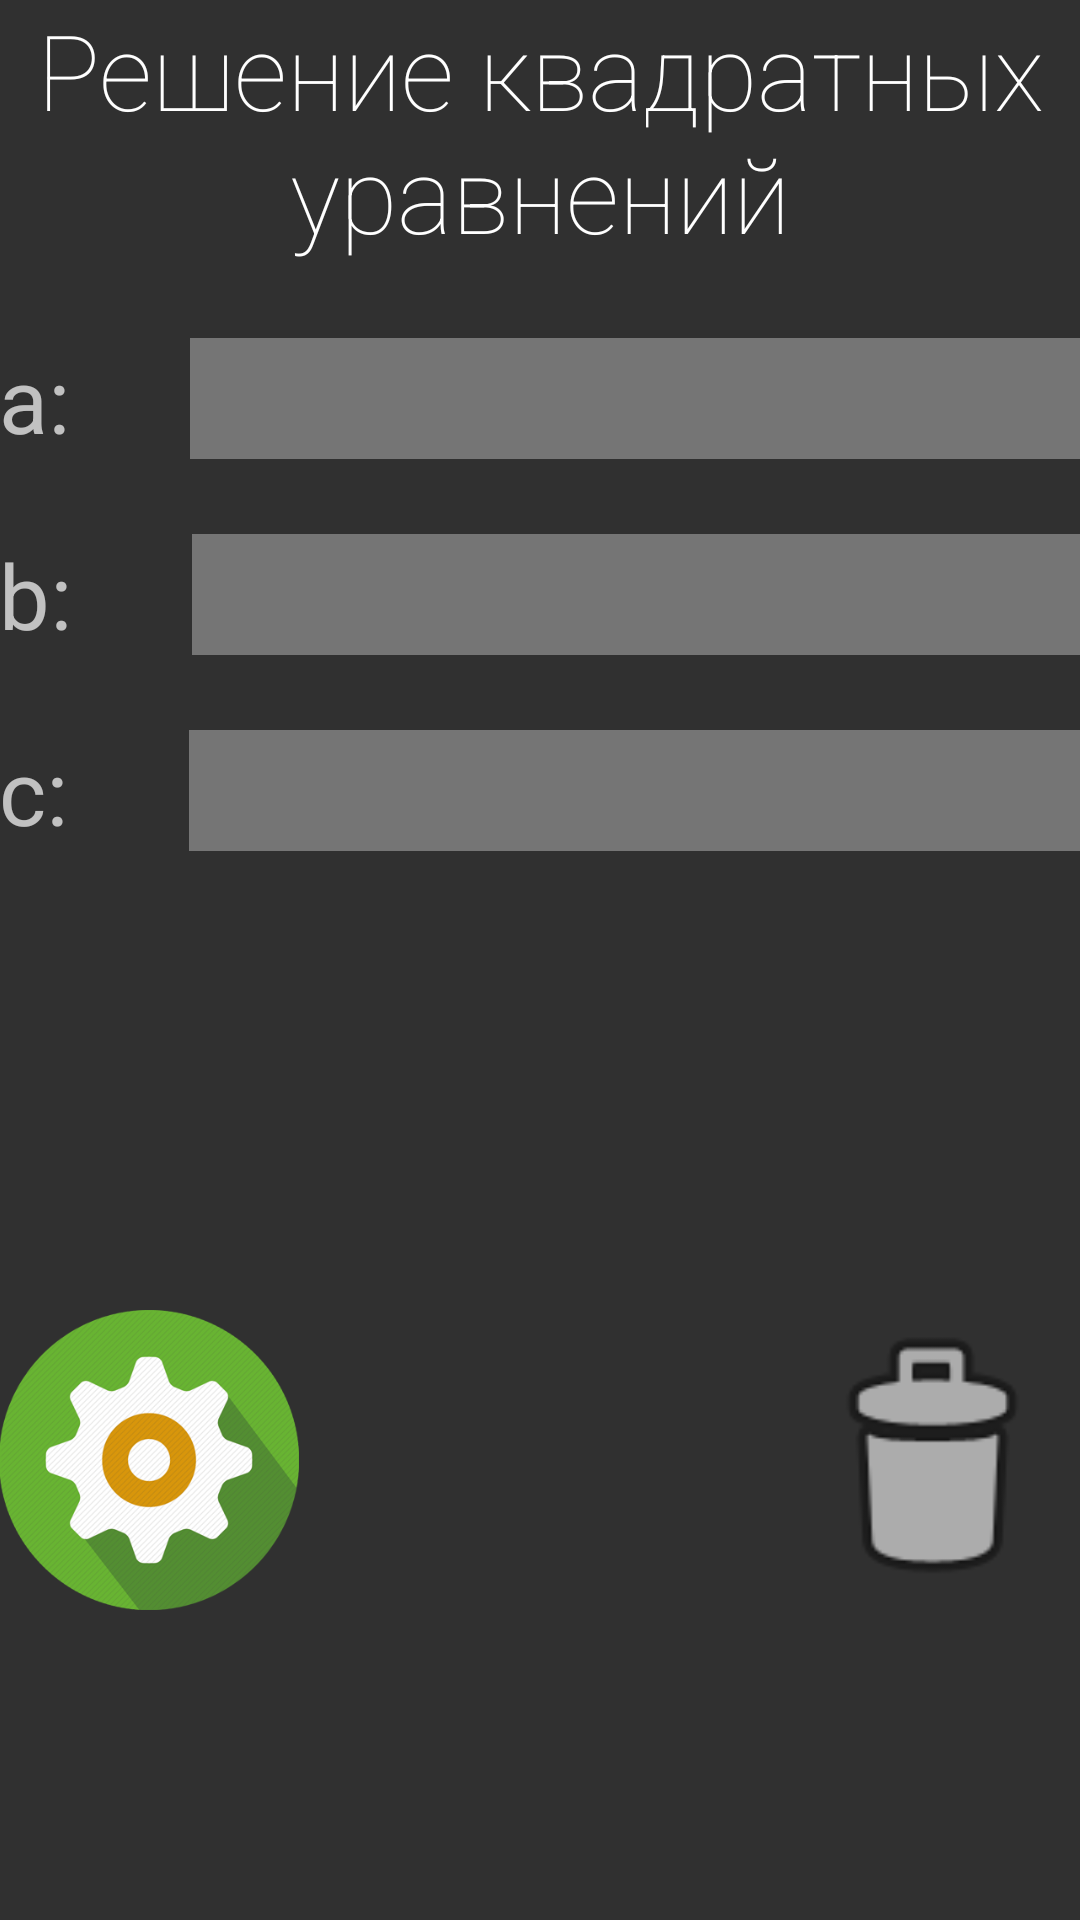

Screen size 1080x1920. Icon name, then its box in pixels as {"x1": x1, "y1": y1, "x2": x2, "y2": y2}:
delete: {"x1": 858, "y1": 1348, "x2": 1007, "y2": 1563}
gearpng: {"x1": 0, "y1": 1310, "x2": 299, "y2": 1610}
